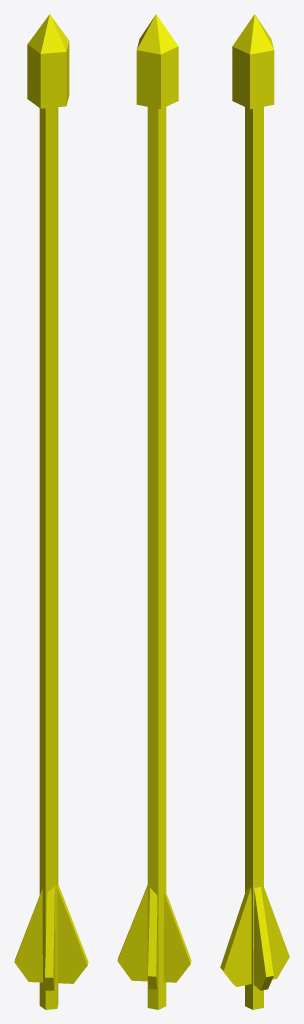
The model's file is _arrow_c_10.glb.
3 views of the same model, side by side, from view 1: azimuth 30°, elevation 25°; view 2: azimuth 210°, elevation 25°; view 3: azimuth 330°, elevation 25° (orthographic).
Visible parts, largest first — view 1: arrow_c_10; view 2: arrow_c_10; view 3: arrow_c_10.
Boxes of the visible parts, x1,y1,x2,y2 form: arrow_c_10: [14, 14, 88, 1009]; arrow_c_10: [117, 14, 191, 1009]; arrow_c_10: [220, 14, 289, 1009].
Bounding box in the file's own units: 0.034 × 0.5754 × 0.0347.
1 material, 1 textured.
